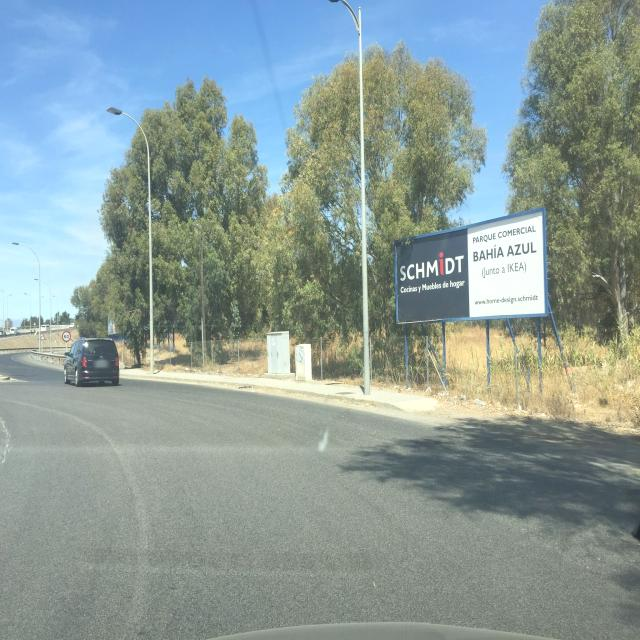car: (61, 341, 121, 386), (40, 324, 52, 332), (9, 327, 21, 335), (0, 330, 7, 337)
